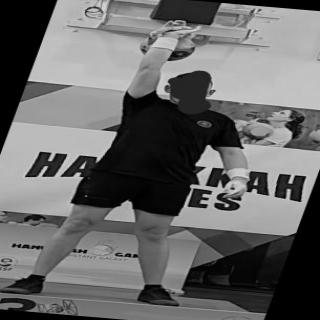kettlebell: (134, 22, 209, 64)
